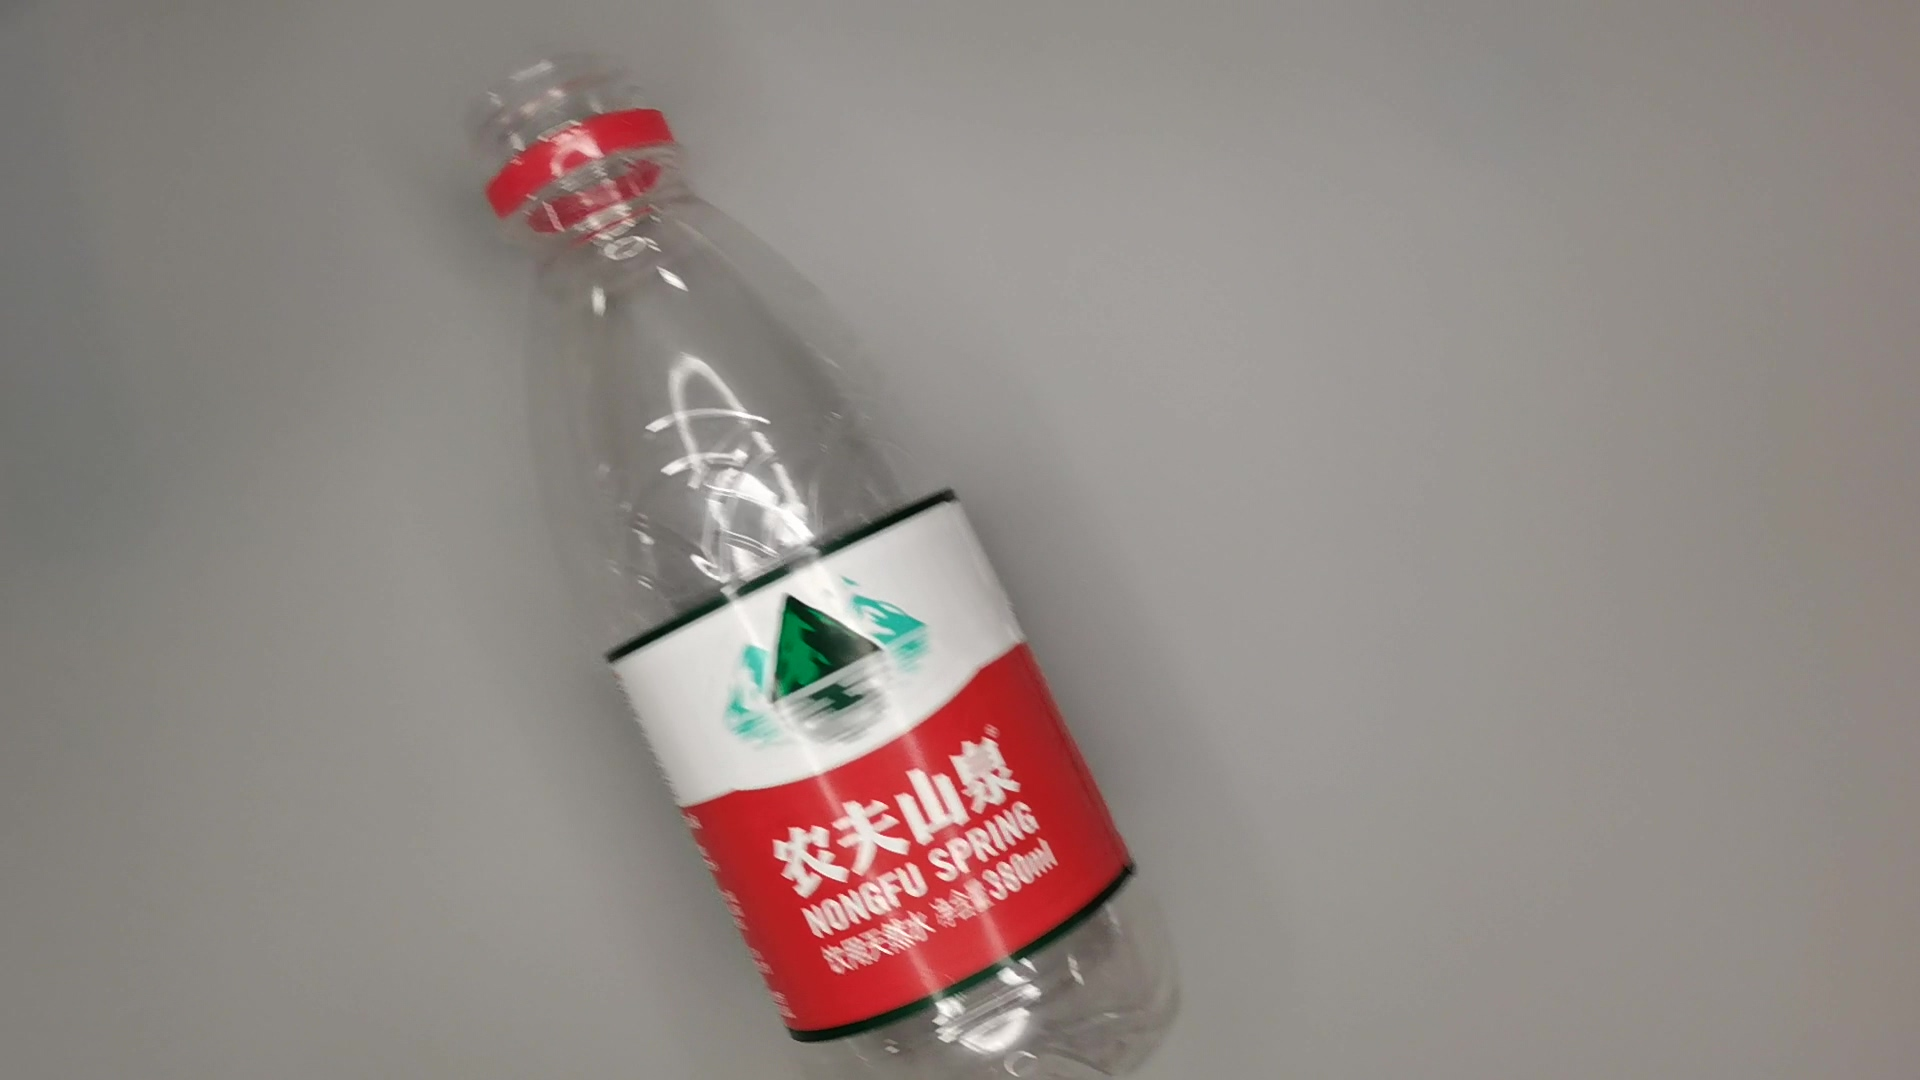bottle: (451, 53, 1193, 1080)
